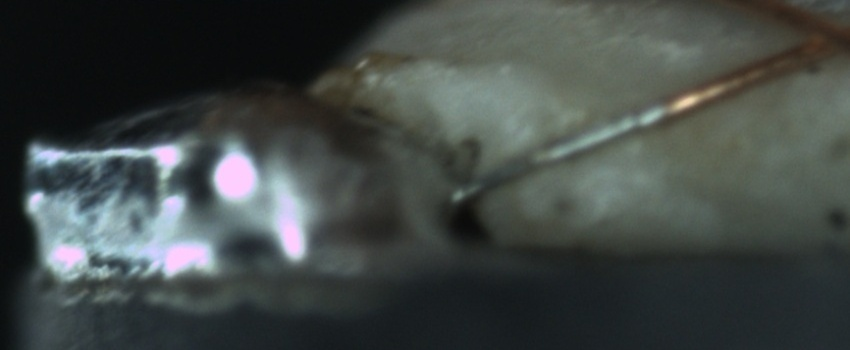CL: (773, 4, 849, 66)
TS: (455, 99, 667, 206)
